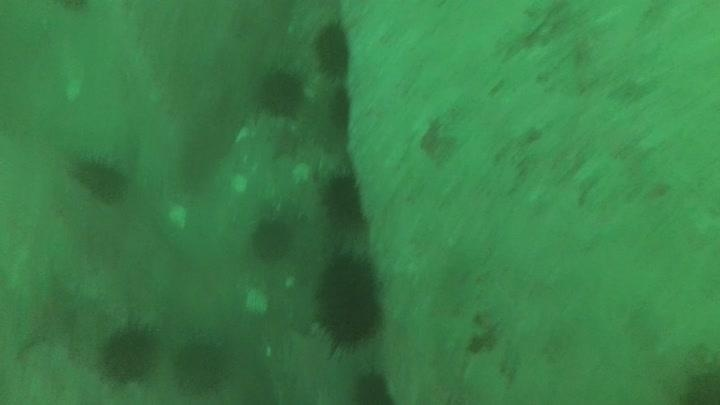echinus: (311, 248, 387, 352), (96, 317, 162, 385), (170, 334, 232, 397), (69, 152, 131, 205), (254, 65, 308, 119), (311, 20, 354, 81), (319, 170, 365, 227), (248, 214, 296, 263), (349, 368, 395, 405)
starfish: (1, 268, 88, 359)
